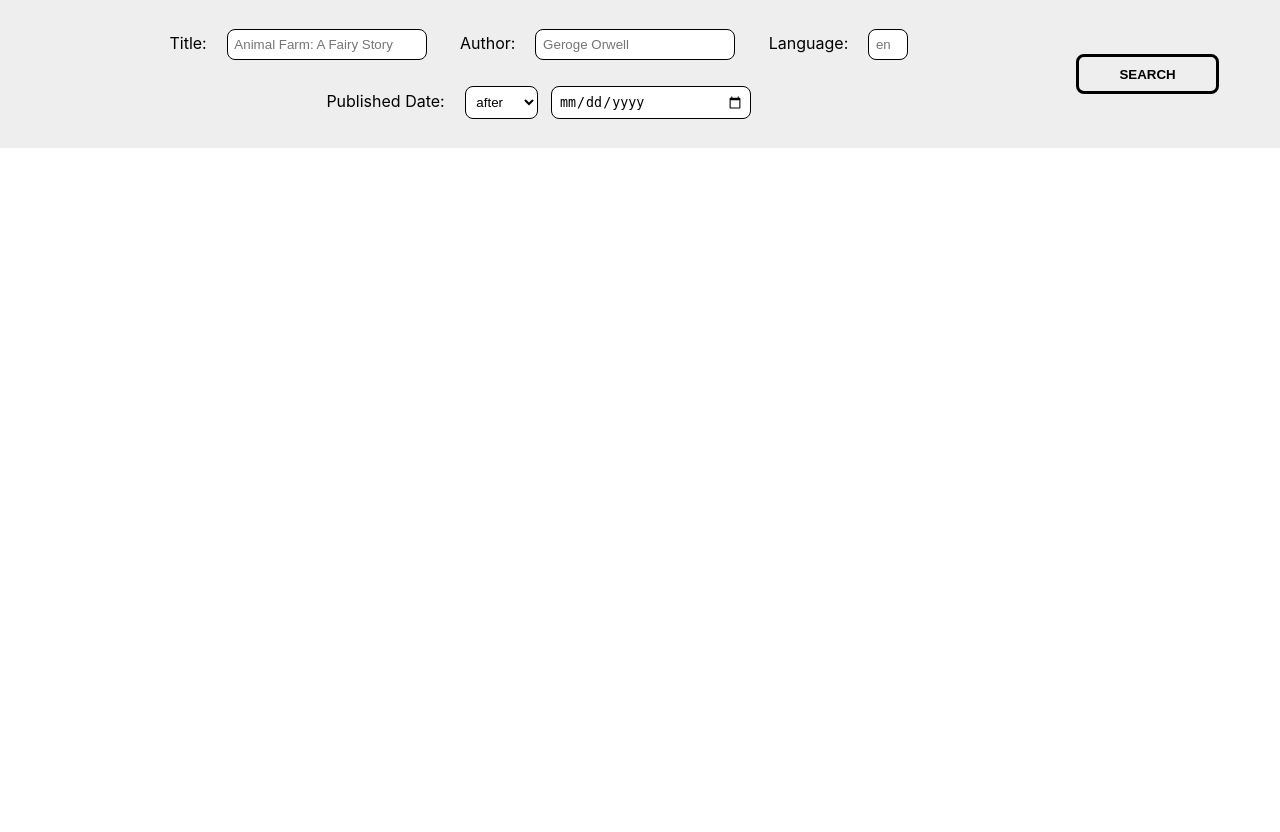
App › loads data from API
Type "Ender's game" into the field labelled "Title:" at (327, 44), box 227,29 -> 427,60
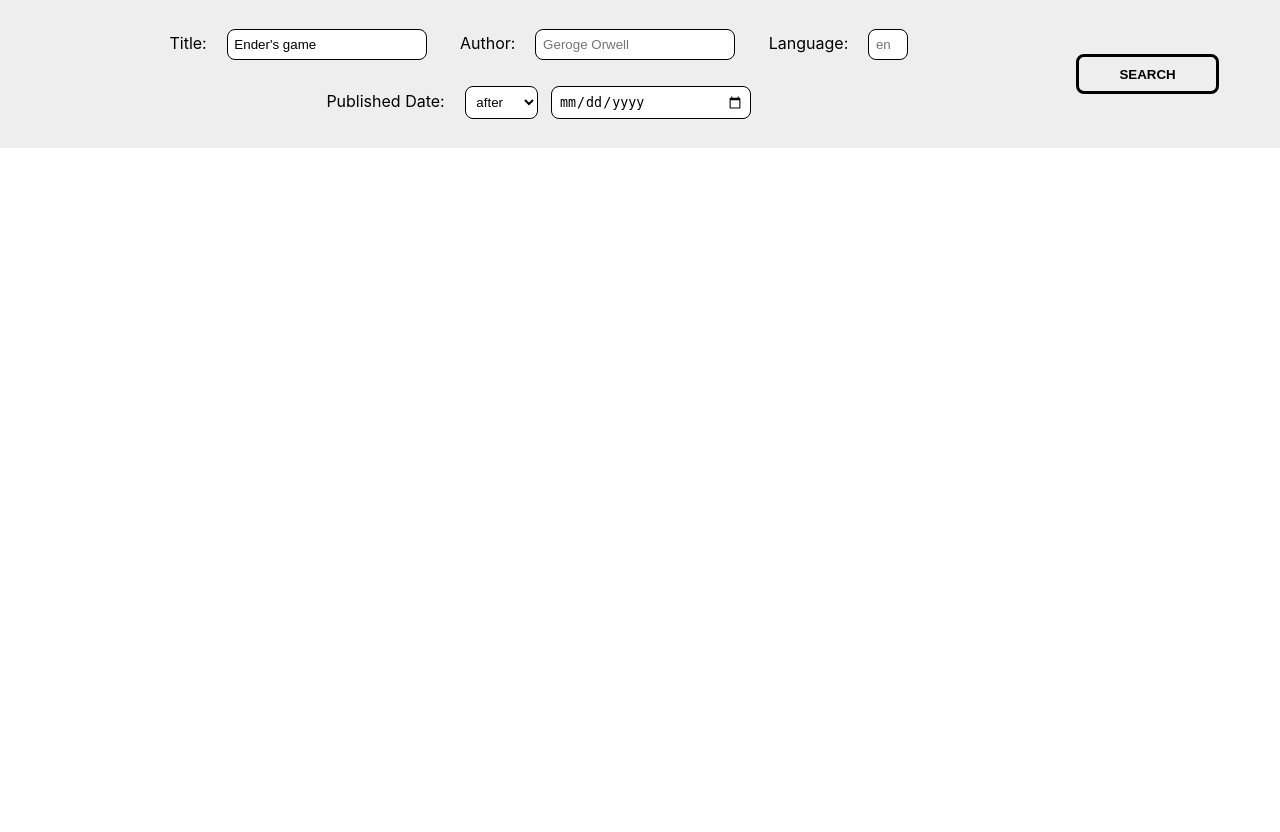
Click the button "SEARCH" at (1148, 74), box 1076,54 -> 1219,94
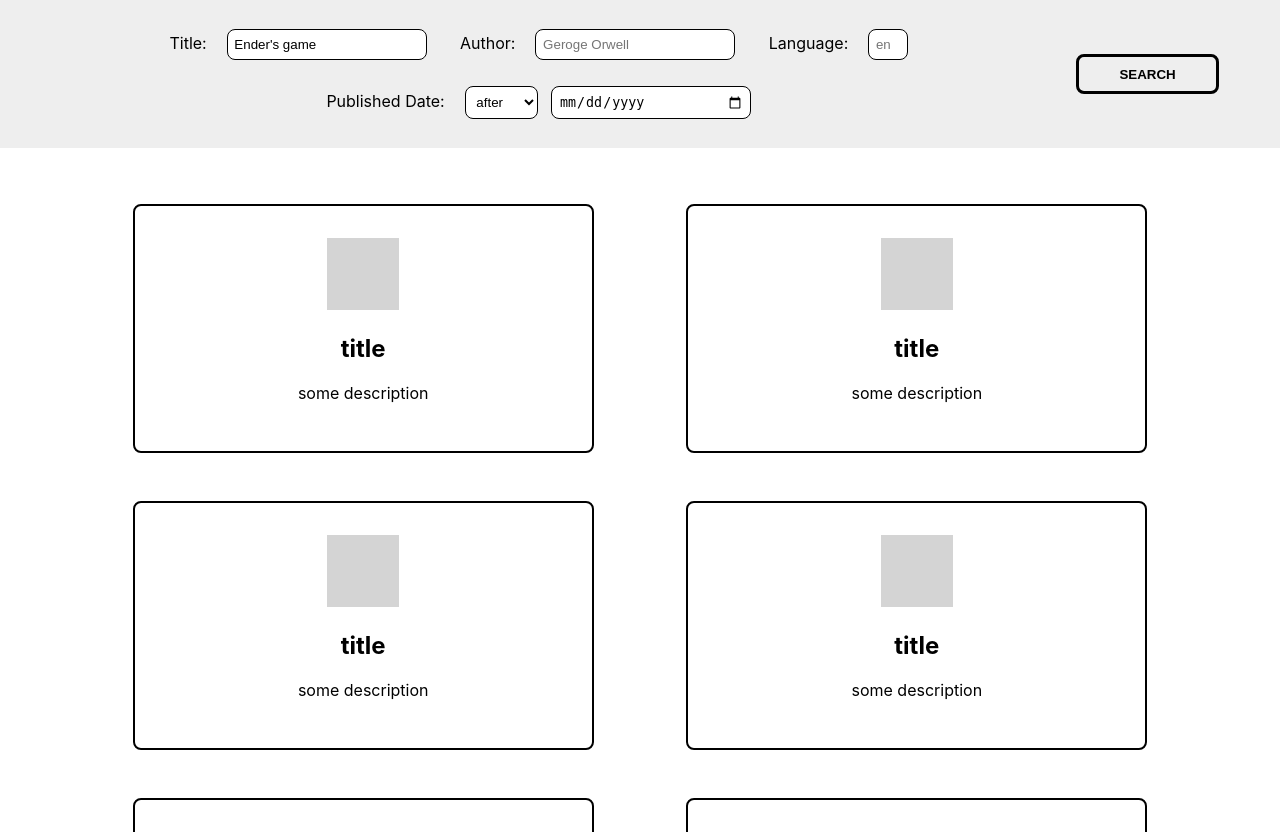
Now the number of headings "title" is 10
